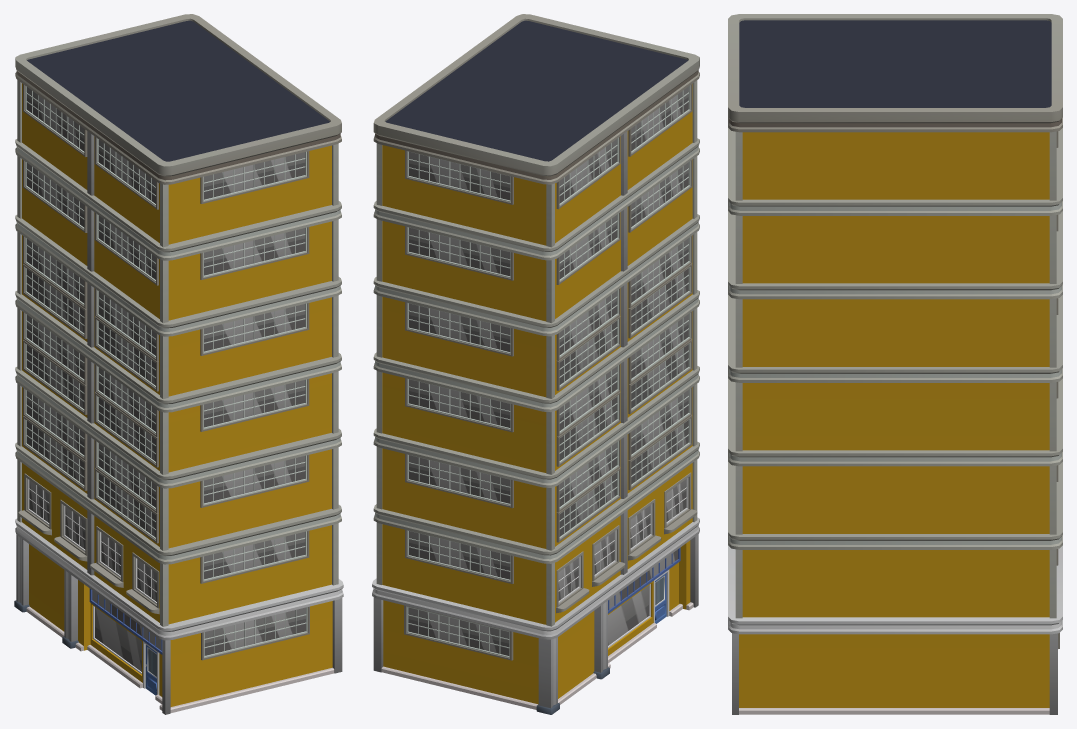
Rendered from Building_11_5_G.glb.
The picture shows the model from 3 angles, left to right: view 1: azimuth 30°, elevation 25°; view 2: azimuth 150°, elevation 25°; view 3: azimuth 270°, elevation 25°; orthographic projection. The views are drawn at different scales.
Visible parts, largest first — view 1: Building_11_5_G; view 2: Building_11_5_G; view 3: Building_11_5_G.
Part boxes in pixels (box(x1,y1,x2,y2)): Building_11_5_G: box(14, 14, 343, 714); Building_11_5_G: box(372, 14, 699, 714); Building_11_5_G: box(728, 14, 1062, 714).
Size of the model in its own units: 8.27 by 23.14 by 11.63.
3 materials, 3 textured.
